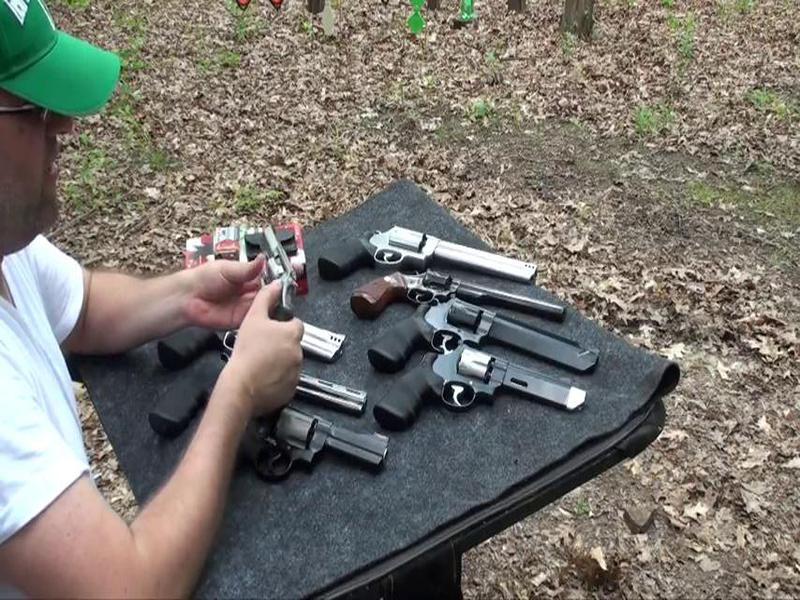Revolver: (213, 212, 310, 352)
